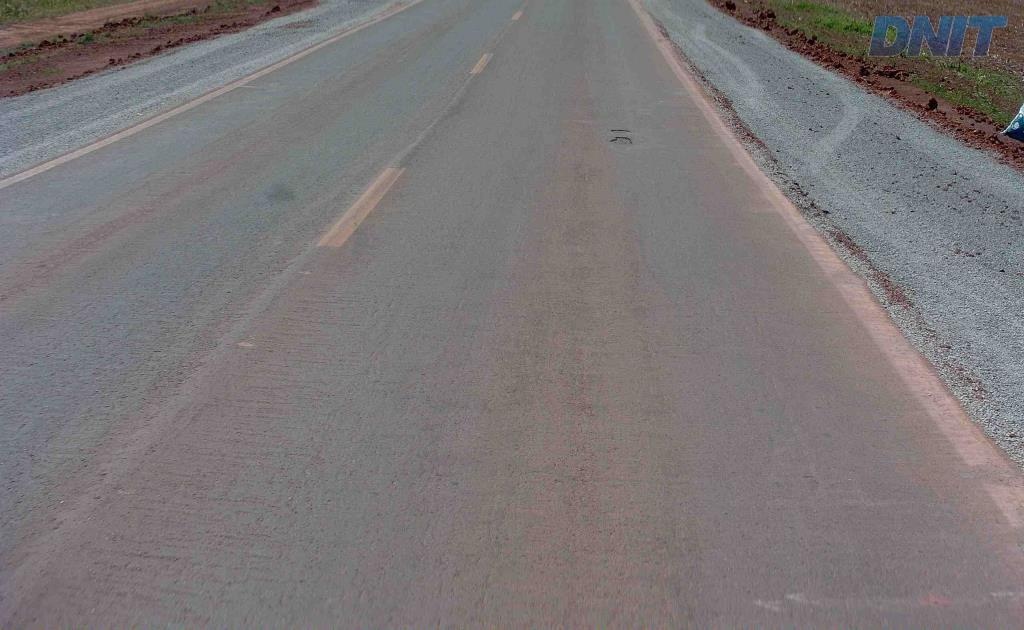pothole: (607, 134, 633, 146), (608, 127, 630, 133)
